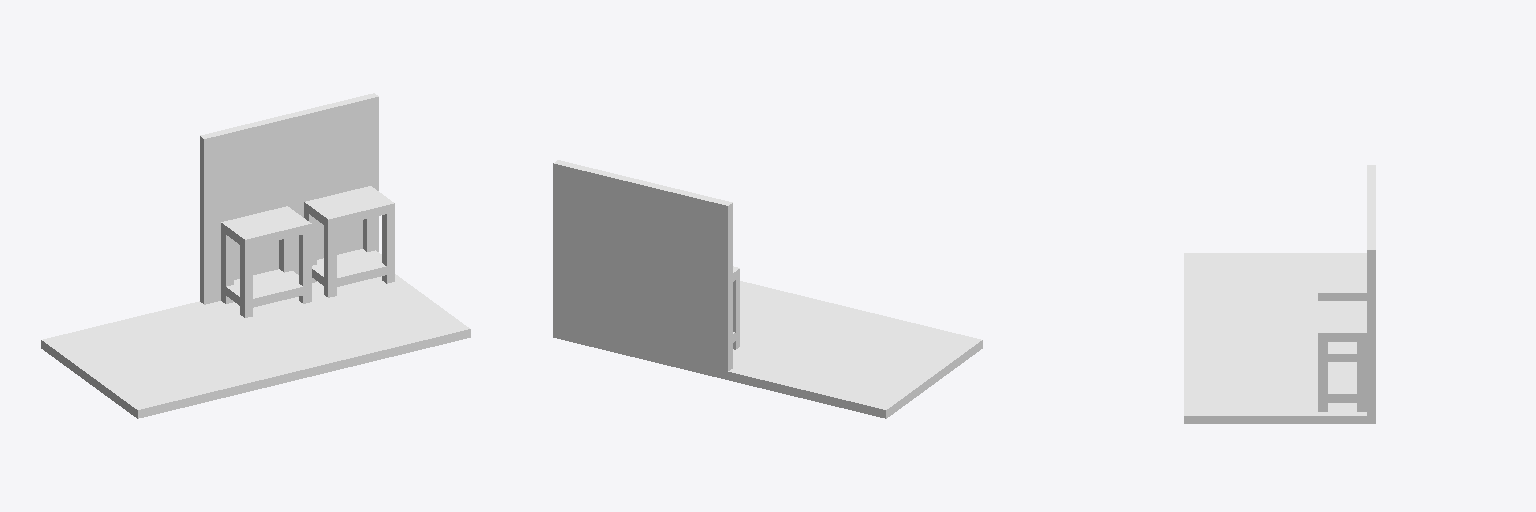
File: level_three-7.obj
The picture shows the model from 3 angles: view 1: azimuth 30°, elevation 25°; view 2: azimuth 150°, elevation 25°; view 3: azimuth 270°, elevation 25°; orthographic projection.
Visible parts, largest first — view 1: level_three-7; view 2: level_three-7; view 3: level_three-7.
Part boxes in pixels (bbox=[...]): level_three-7: bbox=[41, 93, 470, 418]; level_three-7: bbox=[553, 160, 982, 418]; level_three-7: bbox=[1184, 165, 1375, 423].
Size of the model in its own units: 40 by 20 by 20.